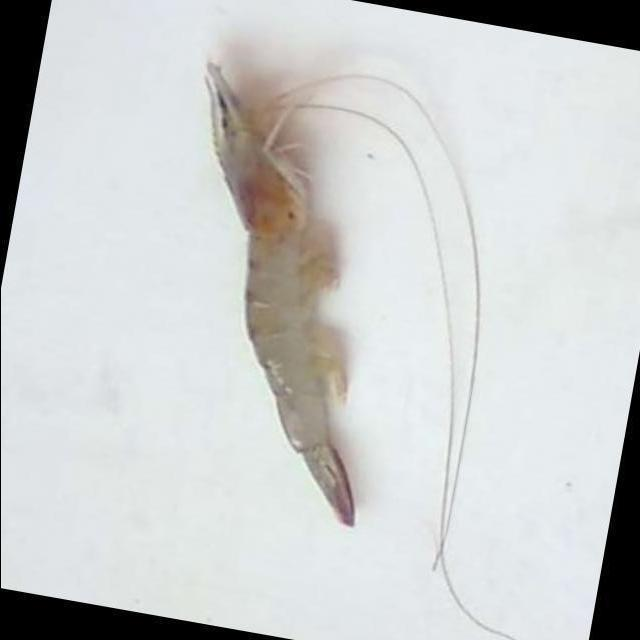shrimp: (205, 61, 354, 526)
